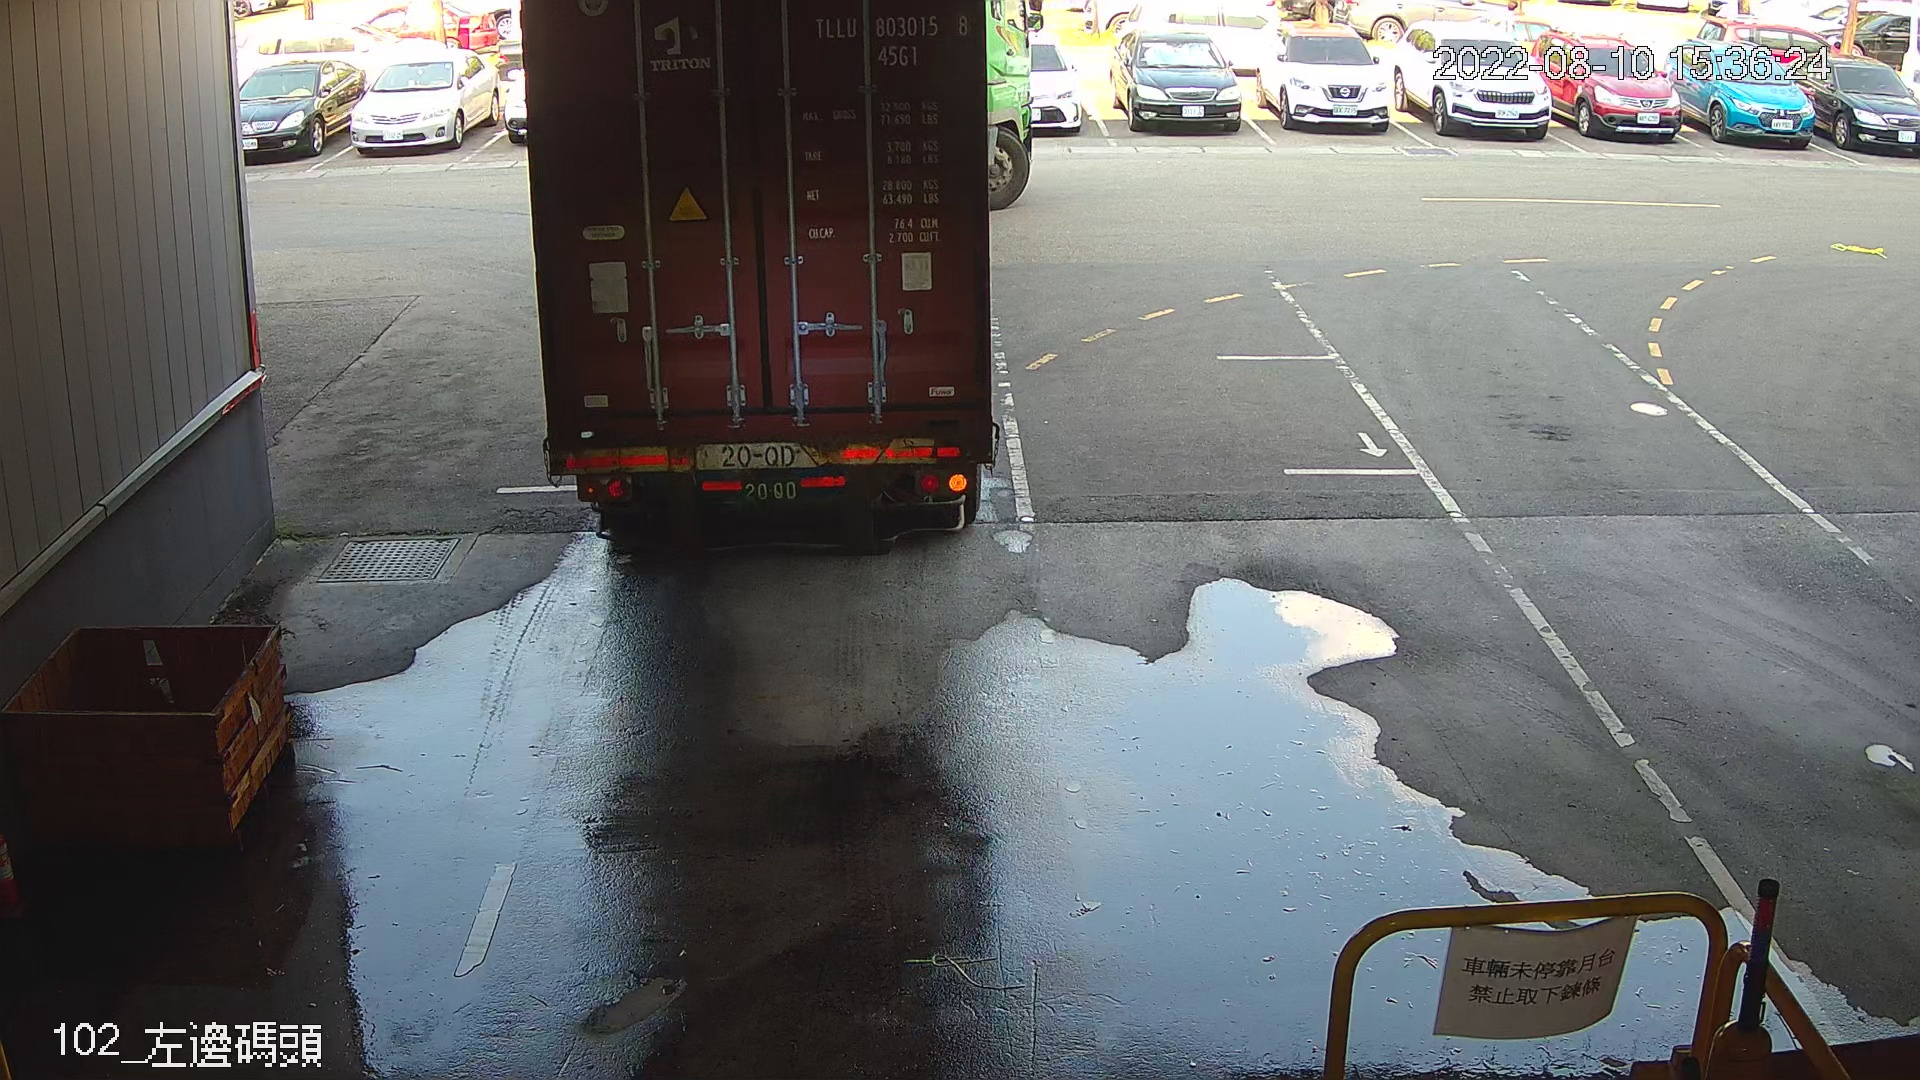container: (808, 5, 976, 76)
